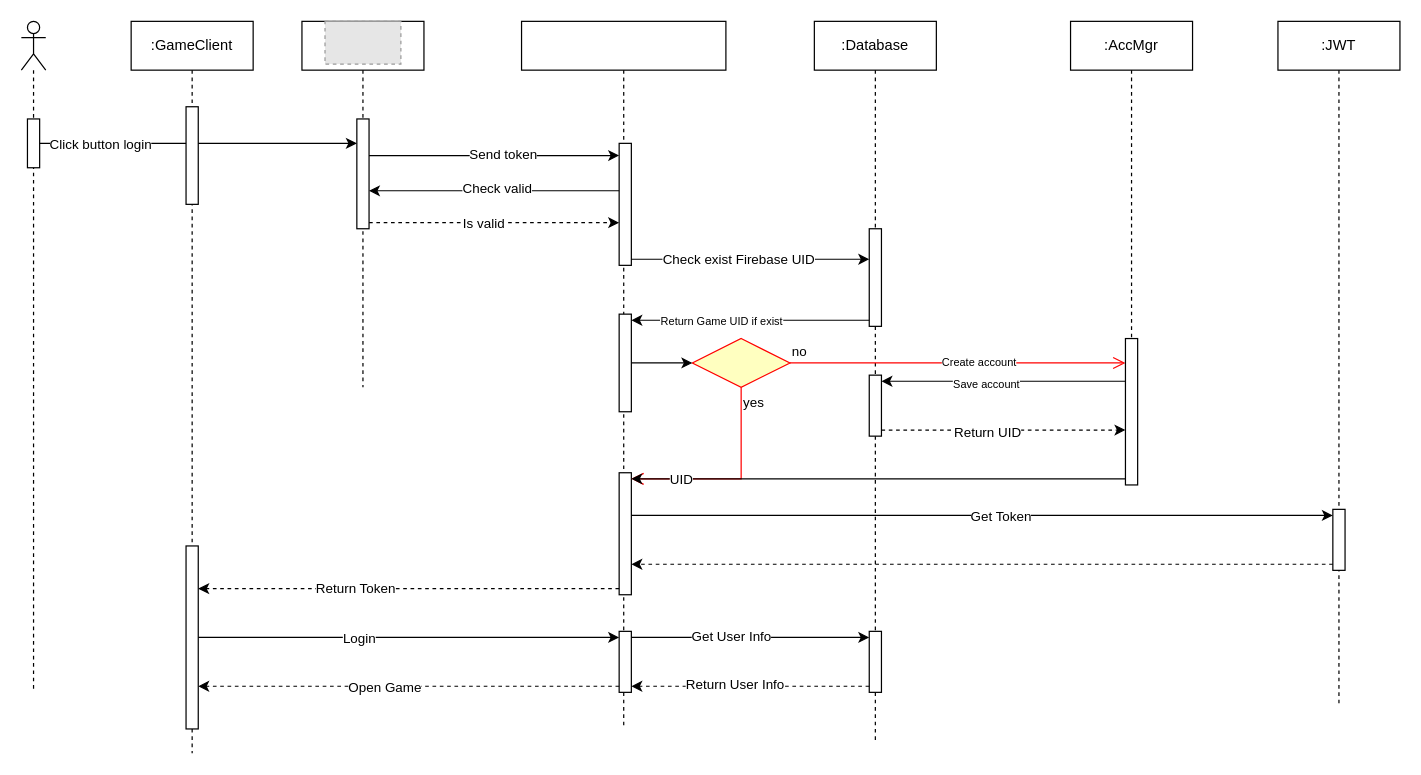
Image size: 1421x775. Some labels were removed from this diagram. Grey dashed boxes stand in for pictures. Each missing label, with the centre of its shape:
":LoginMgr" belongs at [623,374].
"Exist" belongs at [740,362].
